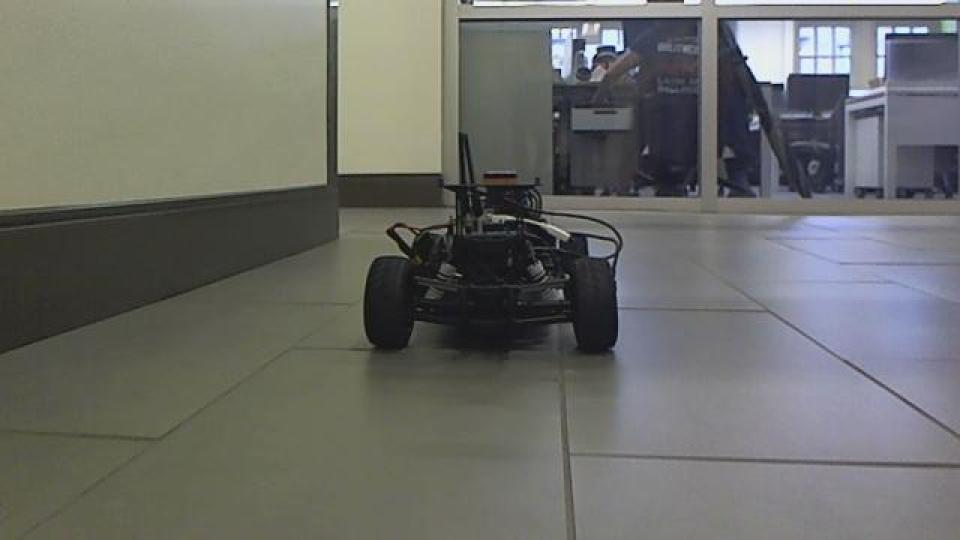car: (361, 127, 624, 357)
